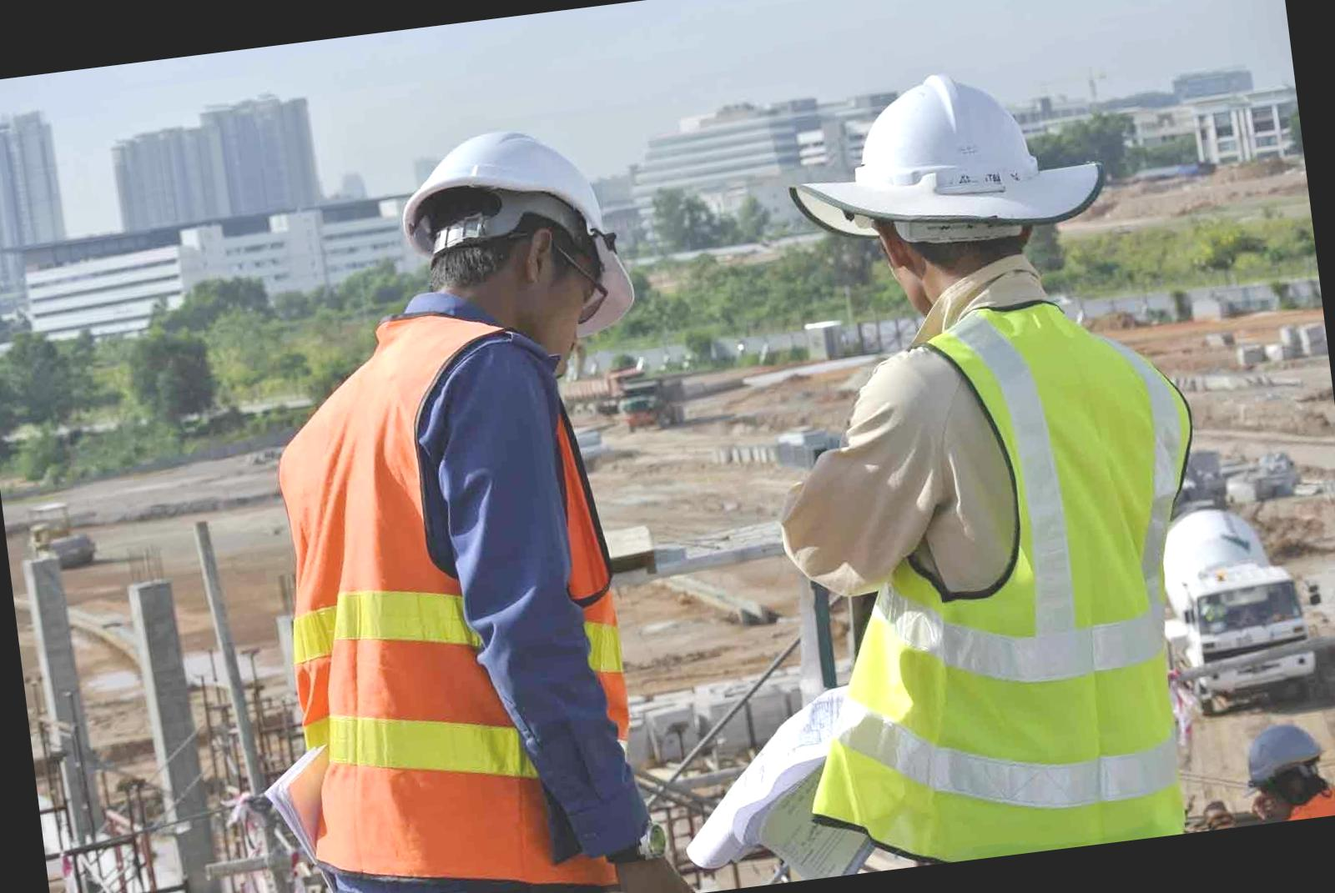helmet: (780, 53, 1115, 256), (378, 110, 613, 241)
person: (715, 38, 1248, 879), (209, 95, 730, 893)
